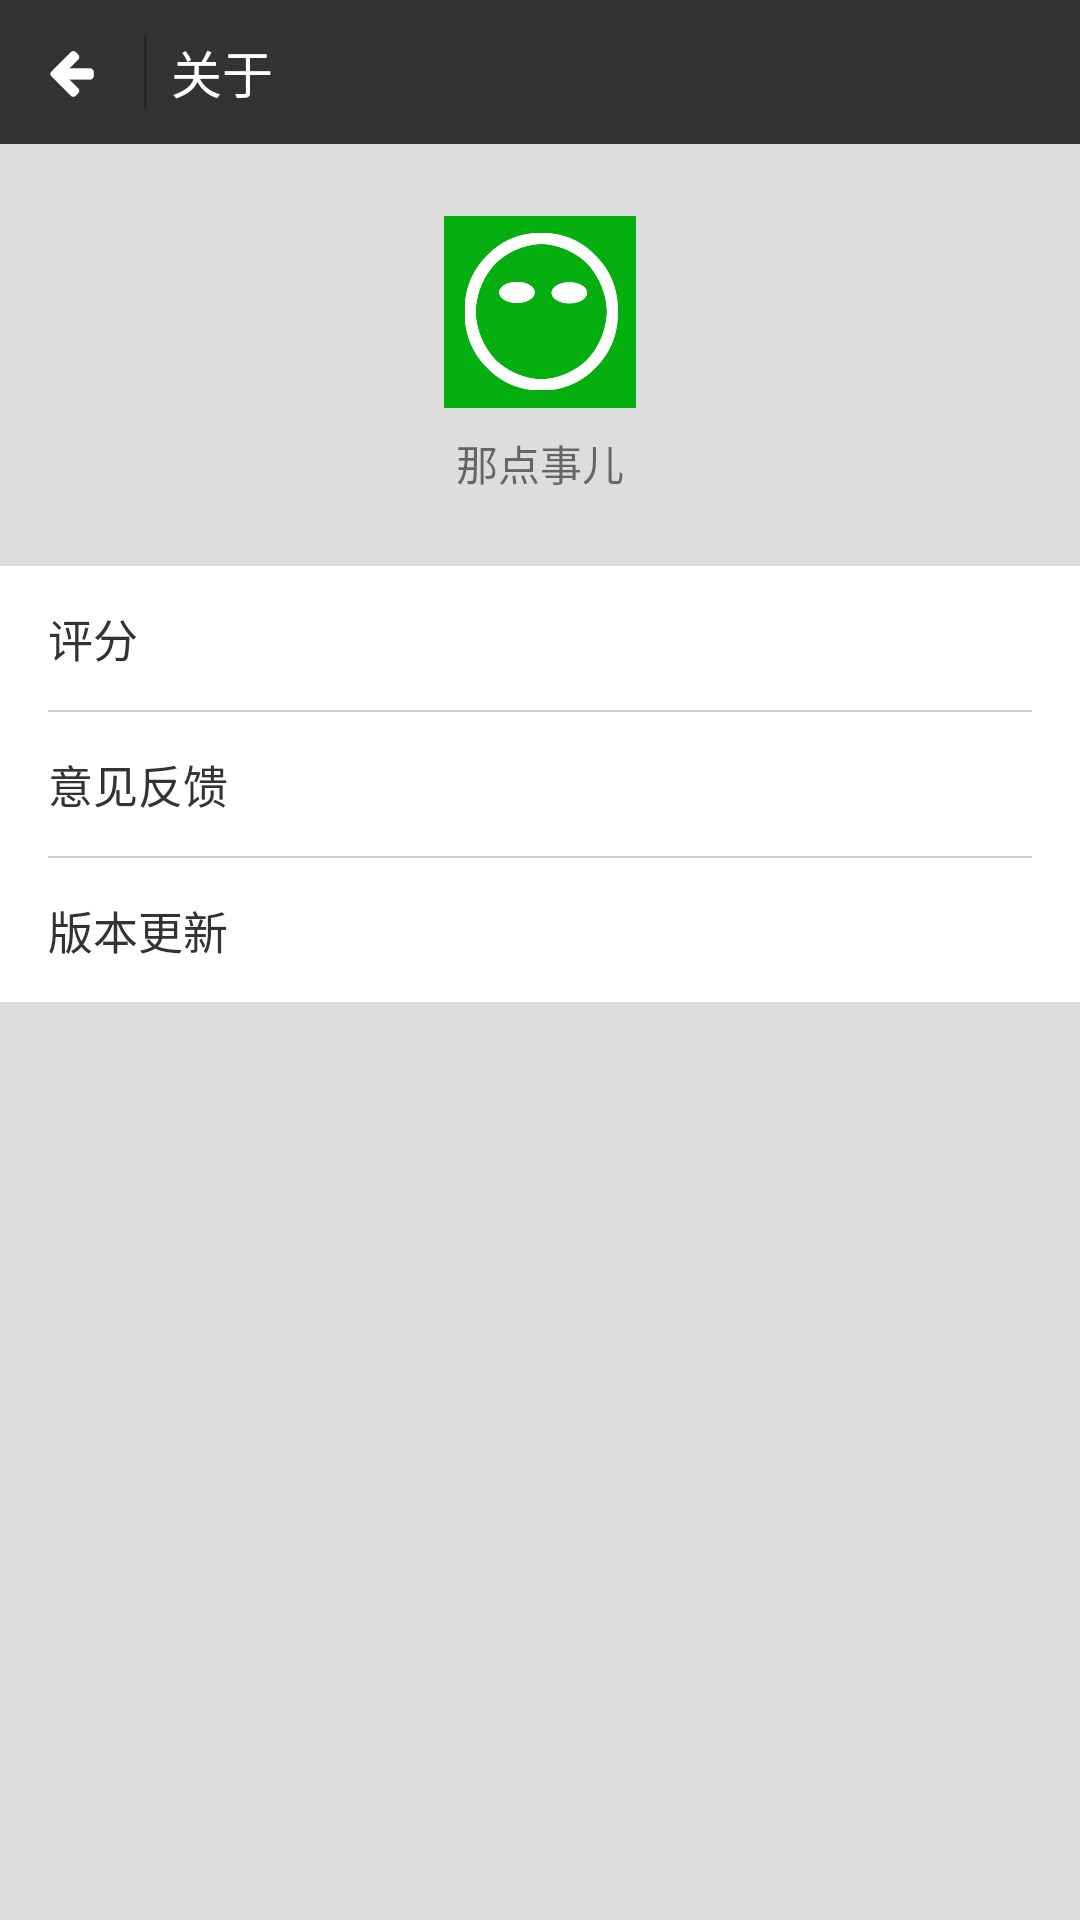

Named icons in this screenshot (1080 x 1920) and their bounding boxes, (x1, y1, x2, y2):
back: (50, 51, 94, 97)
